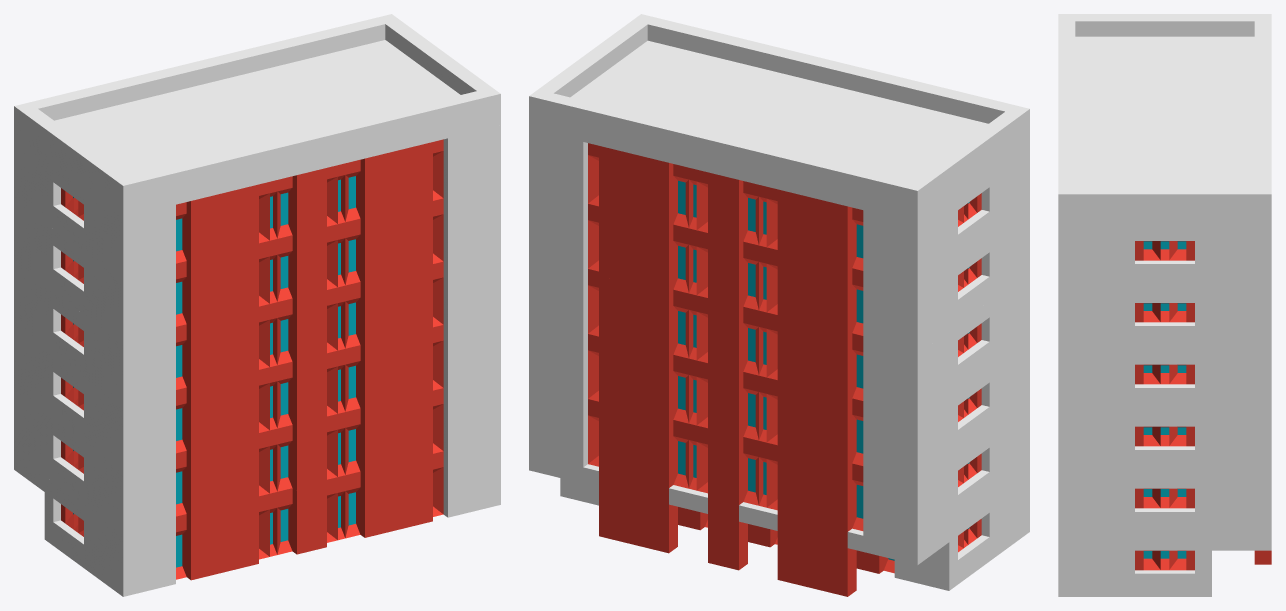
File: group1271622721_lev3.glb
3 views of the same model, side by side, from view 1: azimuth 30°, elevation 25°; view 2: azimuth 150°, elevation 25°; view 3: azimuth 270°, elevation 25° (orthographic). The views are drawn at different scales.
Visible parts, largest first — view 1: group1271622721_lev3; view 2: group1271622721_lev3; view 3: group1271622721_lev3.
Boxes of the visible parts, box(x1,y1,x2,y2) form: group1271622721_lev3: box(14, 14, 500, 596); group1271622721_lev3: box(529, 14, 1029, 596); group1271622721_lev3: box(1058, 14, 1271, 596).
Bounding box in the file's own units: 9.38 × 9.76 × 4.69.
